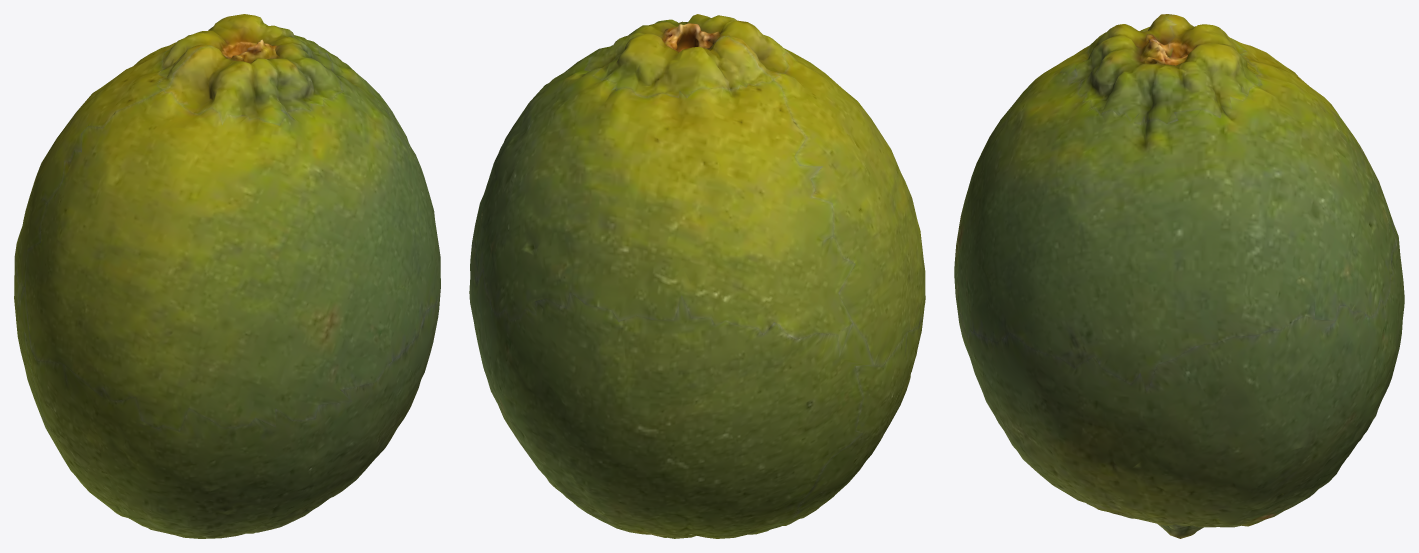
The model's file is food_lime_01.bdf6ca06.glb.
3 views of the same model, side by side, from view 1: azimuth 30°, elevation 25°; view 2: azimuth 150°, elevation 25°; view 3: azimuth 270°, elevation 25° (orthographic).
Visible parts, largest first — view 1: food_lime_01; view 2: food_lime_01; view 3: food_lime_01.
Boxes of the visible parts, x1=… form: food_lime_01: x1=14, y1=14, x2=440, y2=538; food_lime_01: x1=469, y1=14, x2=925, y2=538; food_lime_01: x1=954, y1=14, x2=1404, y2=538.
Bounding box in the file's own units: 0.7051 × 0.8855 × 0.72.
Materials: 1 (1 with a texture image).
